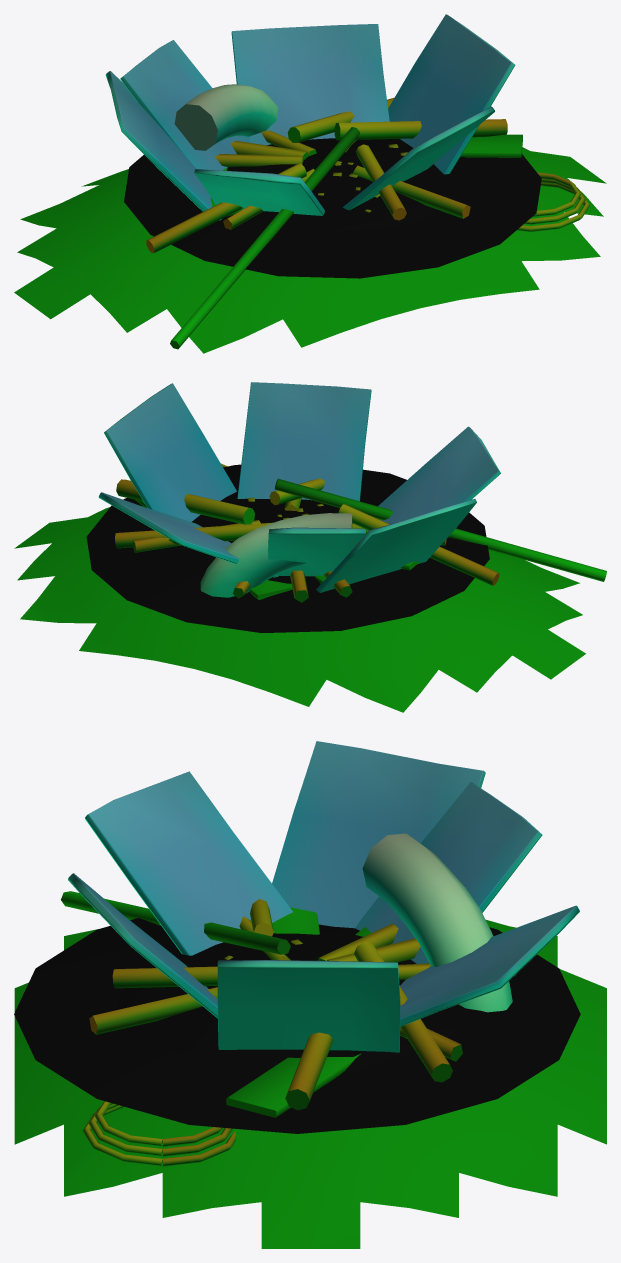
File: salvage_pile_burned.glb
3 views of the same model, one above another, from view 1: azimuth 30°, elevation 25°; view 2: azimuth 150°, elevation 25°; view 3: azimuth 270°, elevation 25° (orthographic). The views are drawn at different scales.
Parts seen in each view (by area): view 1: salvage_pile_burned; view 2: salvage_pile_burned; view 3: salvage_pile_burned.
Boxes of the visible parts, left/top/right/bottom form: salvage_pile_burned: left=14, top=14, right=606, bottom=353; salvage_pile_burned: left=14, top=382, right=606, bottom=712; salvage_pile_burned: left=14, top=741, right=606, bottom=1248.
Size of what is drawn, in the model's own units: 3.2 by 0.9058 by 2.2.
